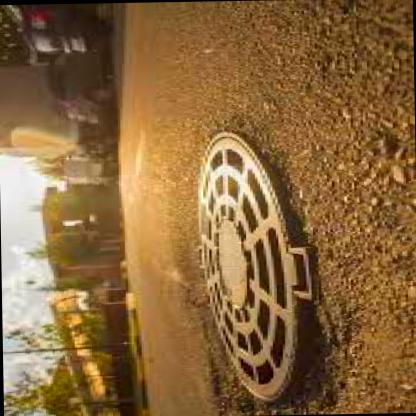manholes: (147, 113, 345, 408)
